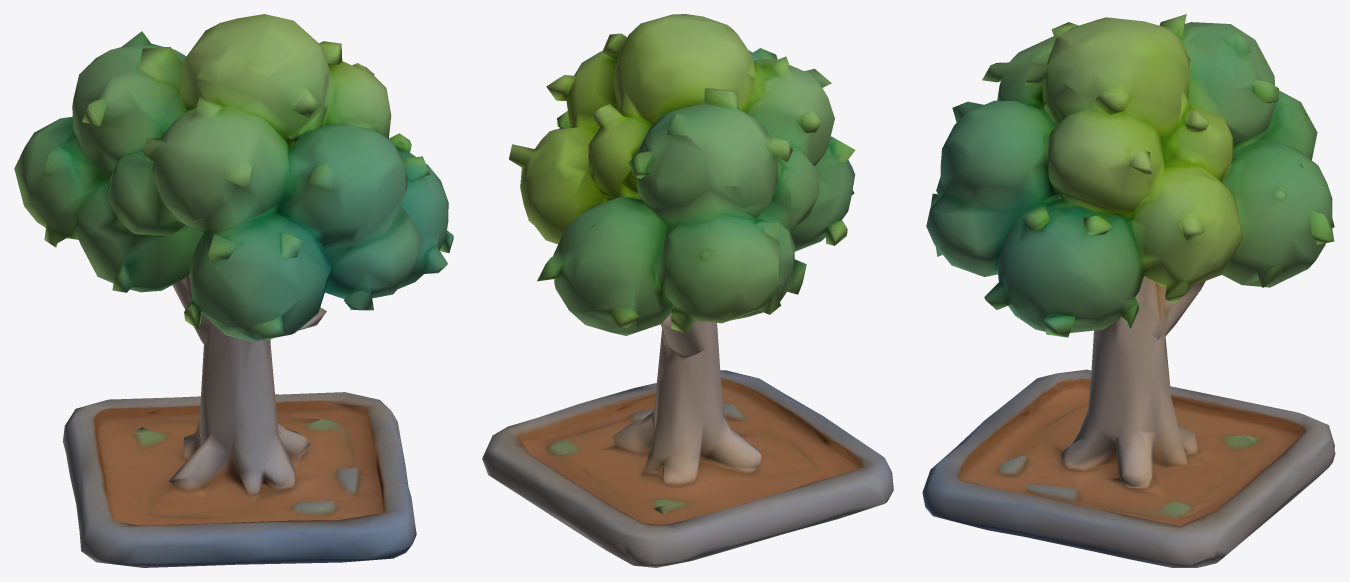
The model's file is plane_tree.glb.
3 renders of one model, left to right at view 1: azimuth 30°, elevation 25°; view 2: azimuth 150°, elevation 25°; view 3: azimuth 270°, elevation 25°, orthographic. The views are drawn at different scales.
Visible parts, largest first — view 1: tripo_node_fdf890bd-3521-427a-9d1a-4989f810d3ba; view 2: tripo_node_fdf890bd-3521-427a-9d1a-4989f810d3ba; view 3: tripo_node_fdf890bd-3521-427a-9d1a-4989f810d3ba.
Boxes of the visible parts, x1,y1,x2,y2 form: tripo_node_fdf890bd-3521-427a-9d1a-4989f810d3ba: (14,14,453,567); tripo_node_fdf890bd-3521-427a-9d1a-4989f810d3ba: (482,14,893,567); tripo_node_fdf890bd-3521-427a-9d1a-4989f810d3ba: (922,14,1335,567).
Size of the model in its own units: 0.7983 by 1 by 0.8015.
1 material, 1 textured.
